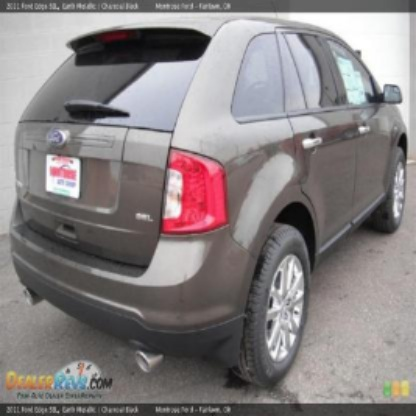Vehicle: (7, 19, 410, 393)
